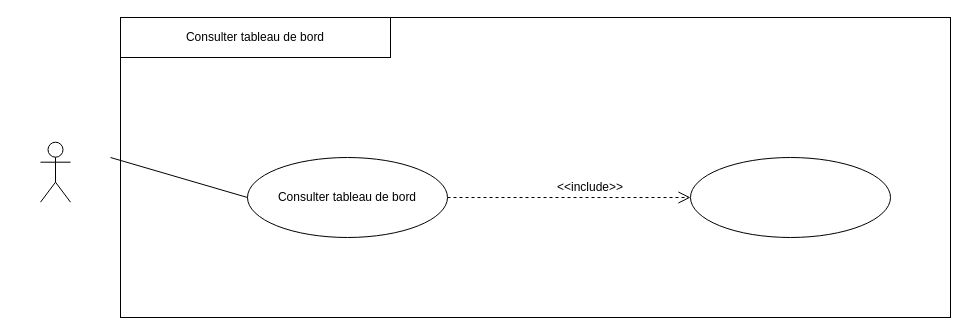
Some shapes in this 968 by 335 pixel diagram are drawn without their labels. Here are the shapes that lost their labels. From the top down, the box of each, then its label:
(40, 141, 70, 202): administrateur
(690, 156, 890, 238): S'authentifier
